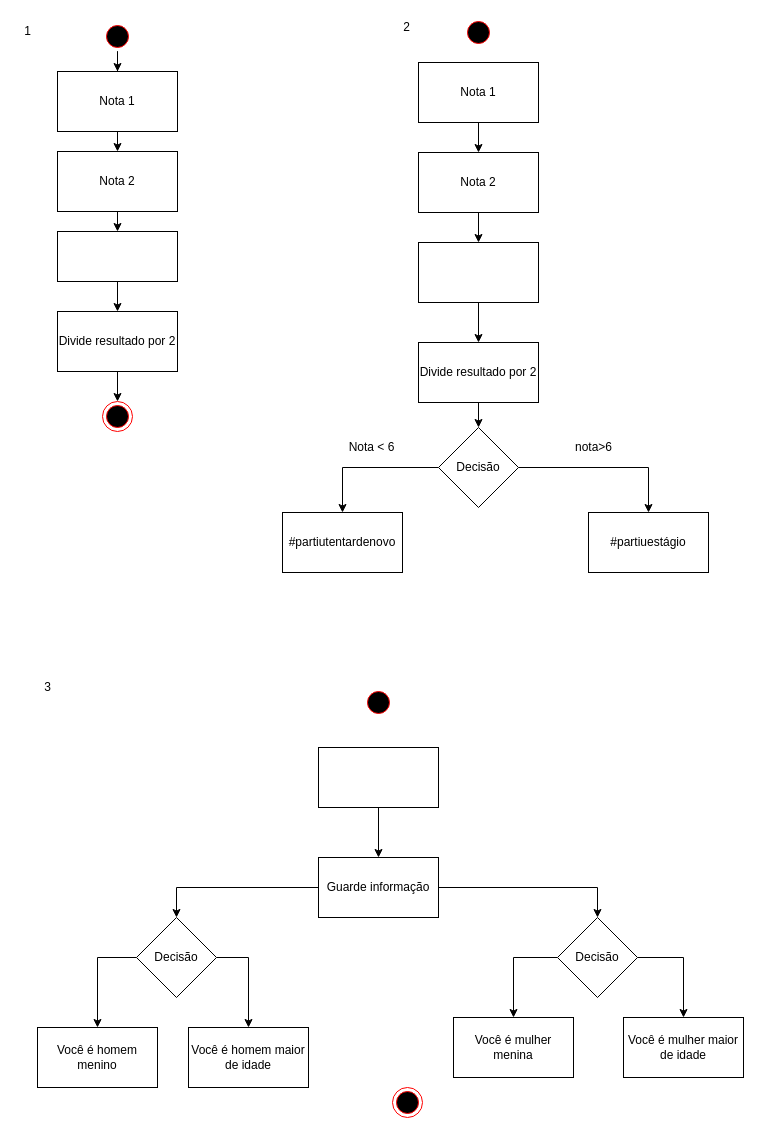
This 761x1135 diagram has some shape labels left out. The centre of each missing label's shape, as x and y in pixels:
Informe sexo e idade: (x=378, y=777)
Soma (N1 e N2): (x=478, y=272)
Soma (Nota 1 e Nota 2): (x=117, y=256)
